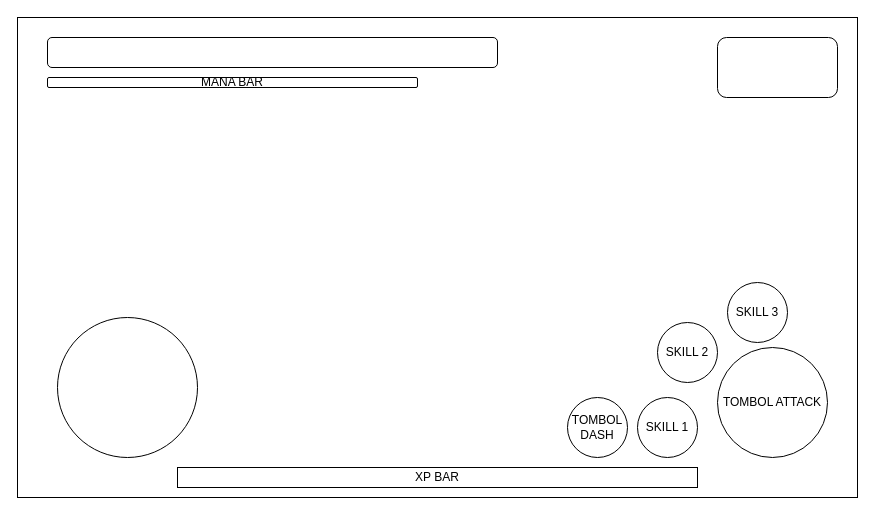
Image size: 875x515. Some labels were removed from this diagram. Here are the shapes that lost their labels. From the top down, the centre of each, then its label:
[272,52]: HEALTH BAR
[777,67]: MENU
[127,387]: JOYSTICK
